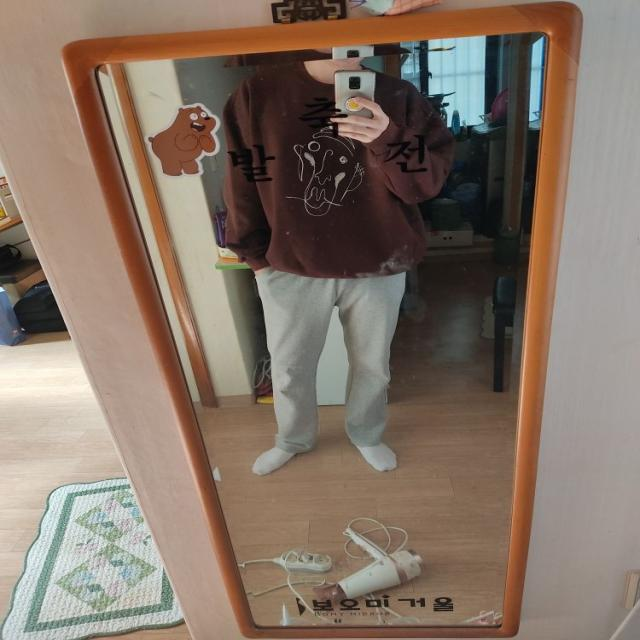mtm: (223, 56, 460, 276)
trainingpants: (256, 271, 405, 456)
